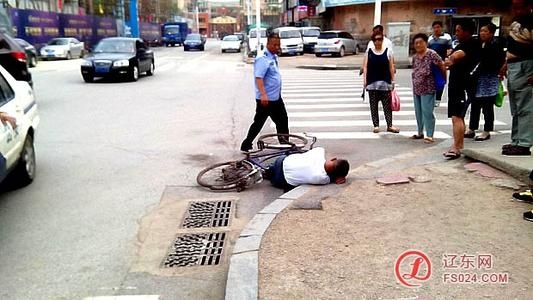falling: (256, 140, 350, 195)
